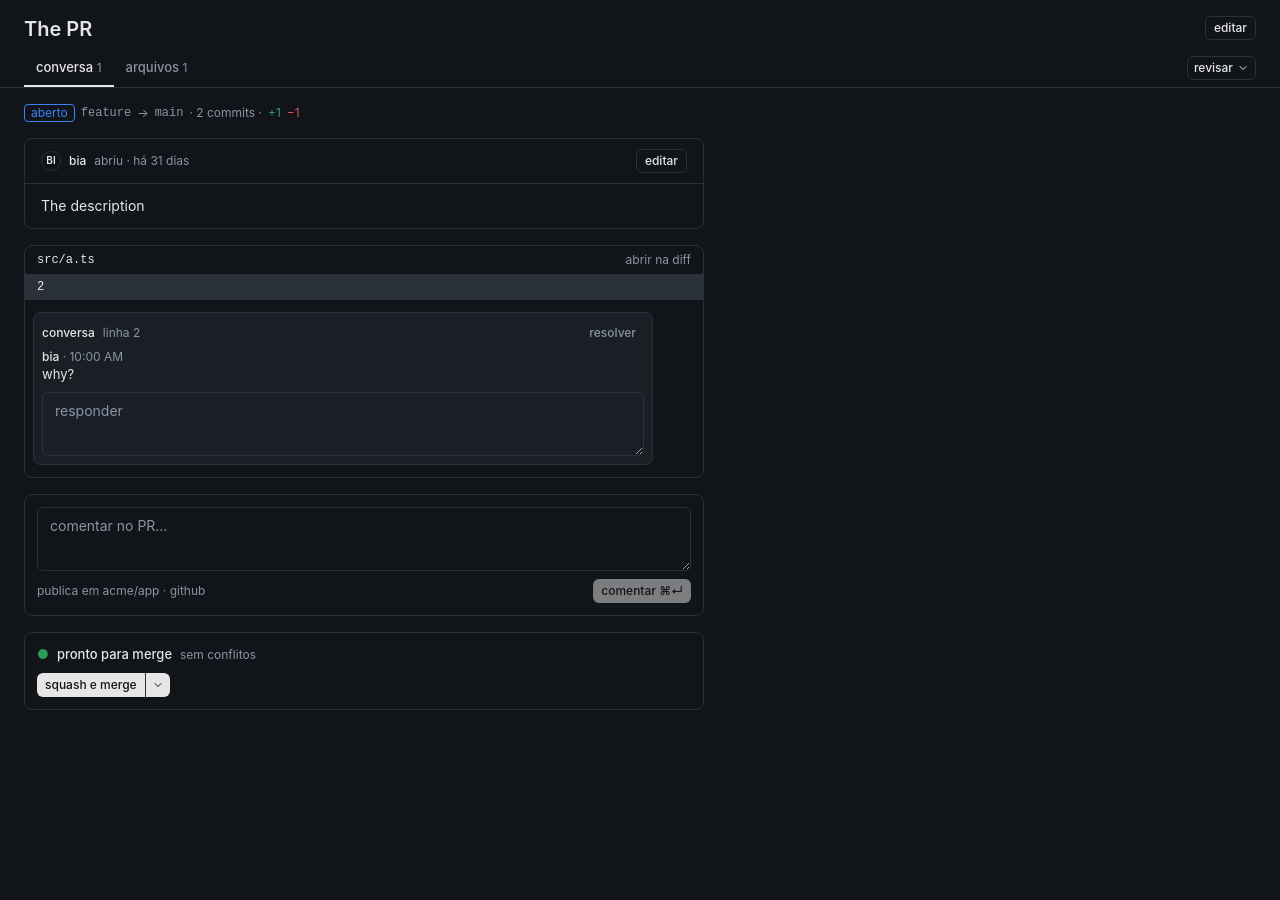
Test: open in diff switches to files with the thread's file shown (#758)
This screenshot has width=1280, height=900.
Click the button "abrir na diff" at point(658, 260), box [626, 252, 691, 268]
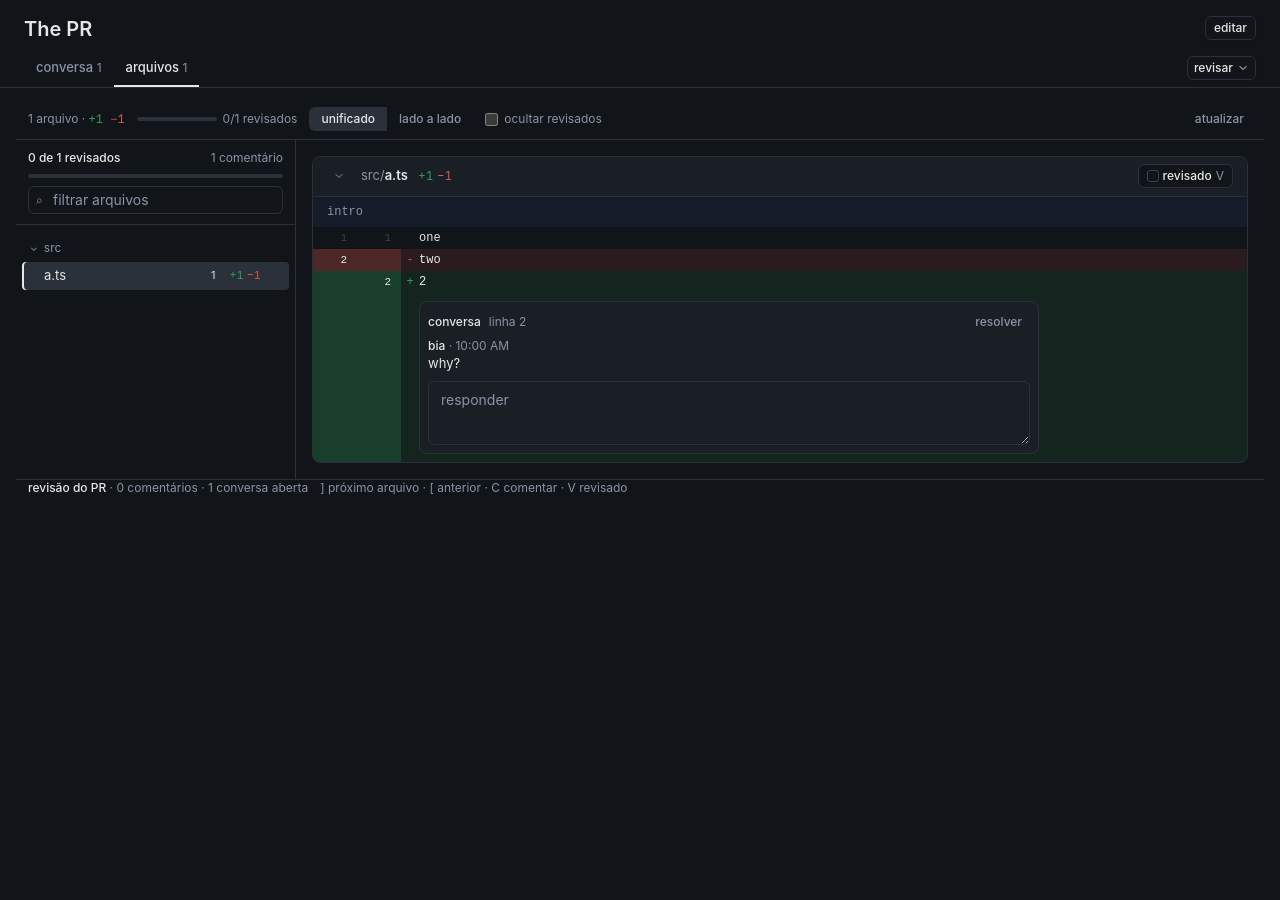
Result: the element "src/a.ts" is shown at [312, 156, 1248, 463]
